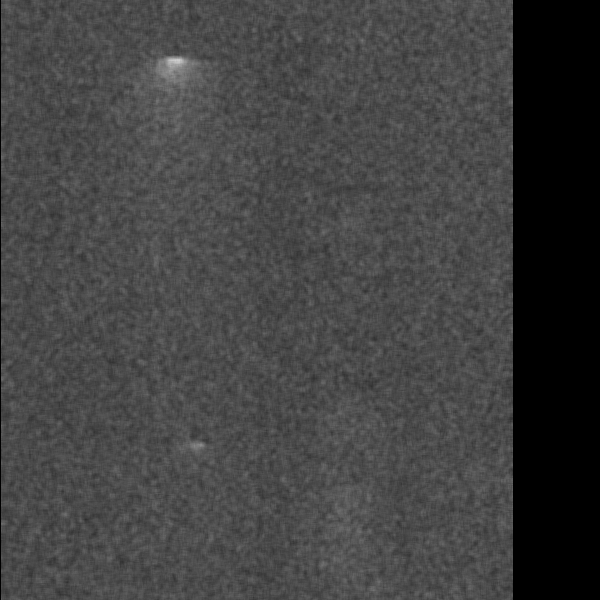spark: (420, 301, 482, 400), (441, 479, 487, 553), (192, 265, 228, 344), (402, 427, 444, 476), (385, 108, 417, 166), (198, 55, 226, 106), (178, 84, 203, 129), (427, 206, 449, 244), (489, 360, 511, 392)
